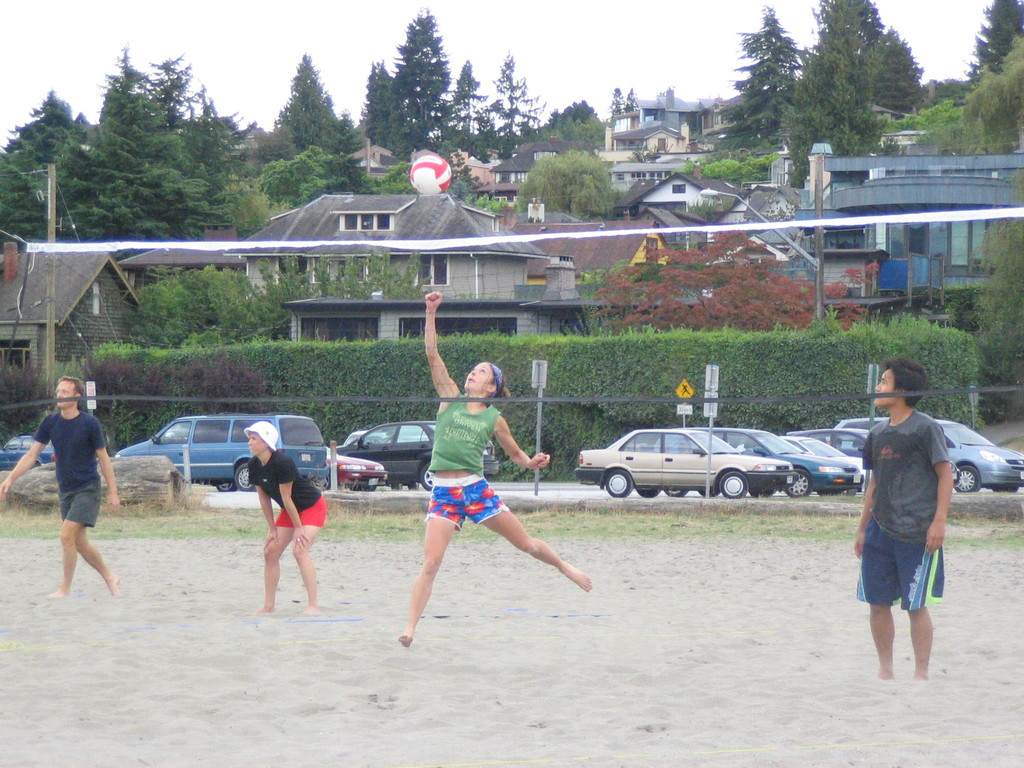Car: (569, 411, 1023, 503), (110, 408, 330, 495), (335, 416, 507, 489), (325, 449, 387, 496), (0, 428, 58, 474)
